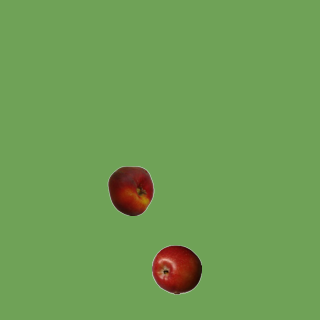Apple Braeburn: (151, 244, 201, 294)
Nectarine Flat: (105, 165, 155, 215)
